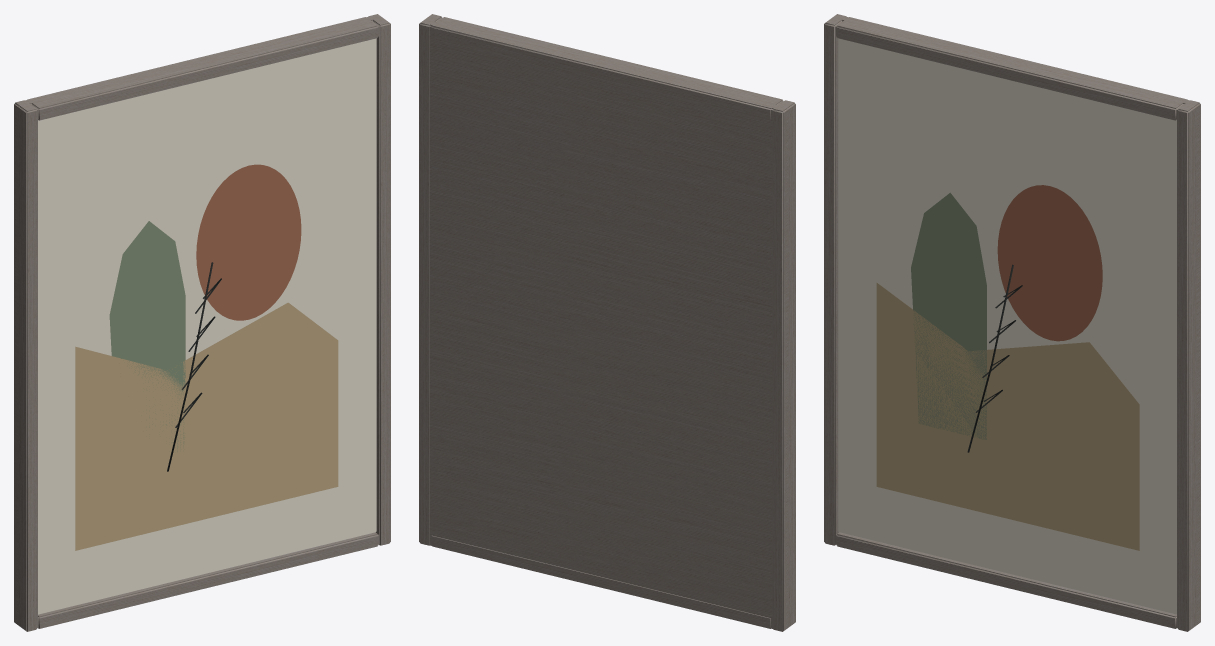
Rendered from modern.art.gltf.
The picture shows the model from 3 angles, left to right: view 1: azimuth 30°, elevation 25°; view 2: azimuth 150°, elevation 25°; view 3: azimuth 330°, elevation 25°; orthographic projection.
Parts seen in each view (by area): view 1: modern.art.backing; view 2: modern.art.backing; view 3: modern.art.backing.
Part boxes in pixels (x1,y1,x2,y2): modern.art.backing: [14, 14, 390, 631]; modern.art.backing: [419, 14, 795, 631]; modern.art.backing: [824, 14, 1200, 631].
Size of the model in its own units: 0.55 by 0.75 by 0.035.
6 materials, 1 textured.
